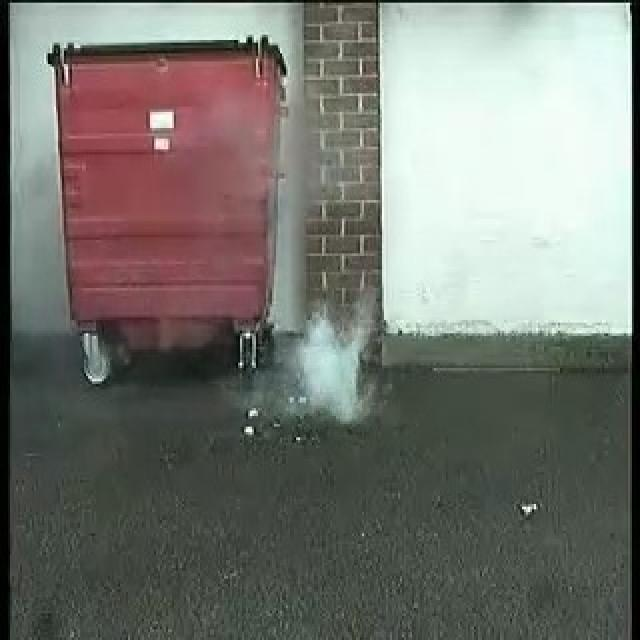smoke: (284, 307, 375, 432)
